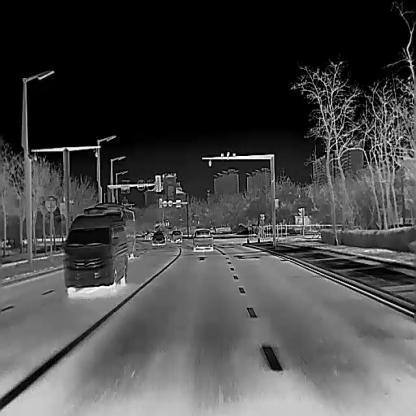car: (63, 215, 128, 288), (86, 202, 136, 259), (192, 228, 212, 253), (151, 230, 164, 245), (170, 229, 183, 243)
